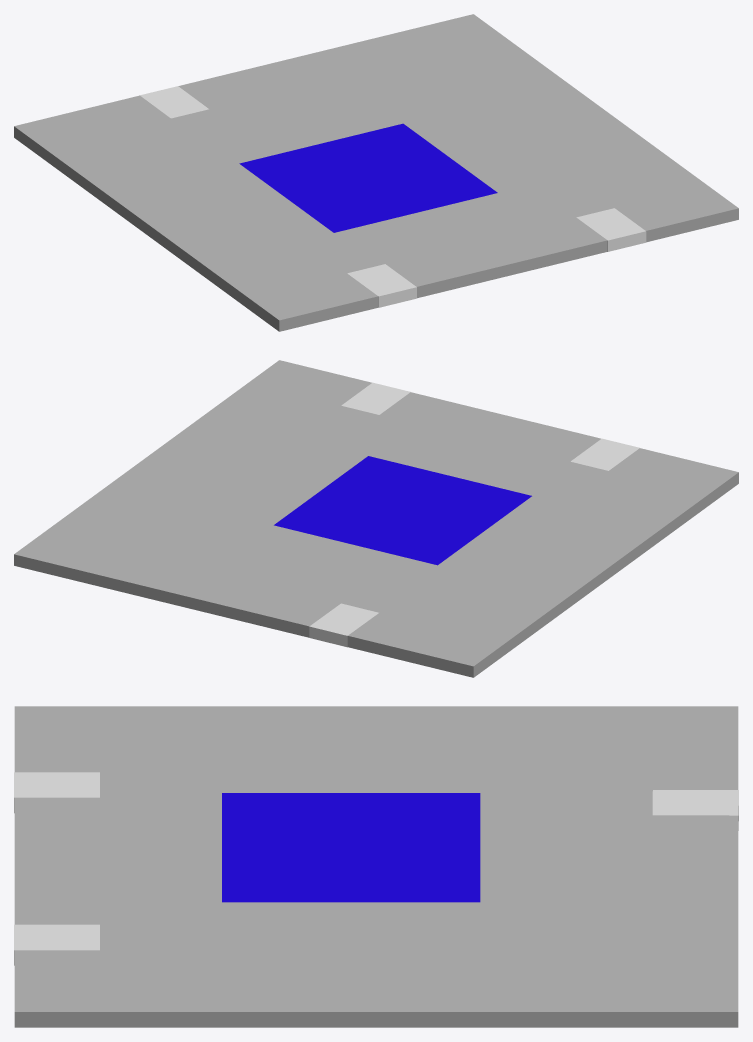
File: FLoor.fbx
3 renders of one model, top to bottom at view 1: azimuth 30°, elevation 25°; view 2: azimuth 150°, elevation 25°; view 3: azimuth 270°, elevation 25°, orthographic. The views are drawn at different scales.
Visible parts, largest first — view 1: Cube, Cube.001, Cube.106, Cube.097, Cube.114; view 2: Cube, Cube.001, Cube.114, Cube.097, Cube.106; view 3: Cube, Cube.001, Cube.106, Cube.114, Cube.097.
Part boxes in pixels (bbox=[...]): Cube: bbox=[14, 14, 738, 331]; Cube.001: bbox=[239, 123, 497, 232]; Cube.106: bbox=[576, 208, 646, 251]; Cube.097: bbox=[347, 264, 416, 307]; Cube.114: bbox=[140, 86, 208, 118]; Cube: bbox=[14, 360, 738, 677]; Cube.001: bbox=[274, 456, 531, 565]; Cube.114: bbox=[309, 603, 378, 647]; Cube.097: bbox=[571, 438, 639, 470]; Cube.106: bbox=[341, 382, 410, 414]; Cube: bbox=[14, 706, 738, 1027]; Cube.001: bbox=[222, 793, 480, 902]; Cube.106: bbox=[14, 924, 99, 965]; Cube.114: bbox=[652, 790, 738, 830]; Cube.097: bbox=[14, 772, 99, 813].
Size of the model in its own units: 4200 by 100 by 4208.
